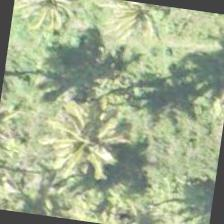Kelapa_Sawit: (46, 89, 148, 191), (9, 0, 96, 50)
